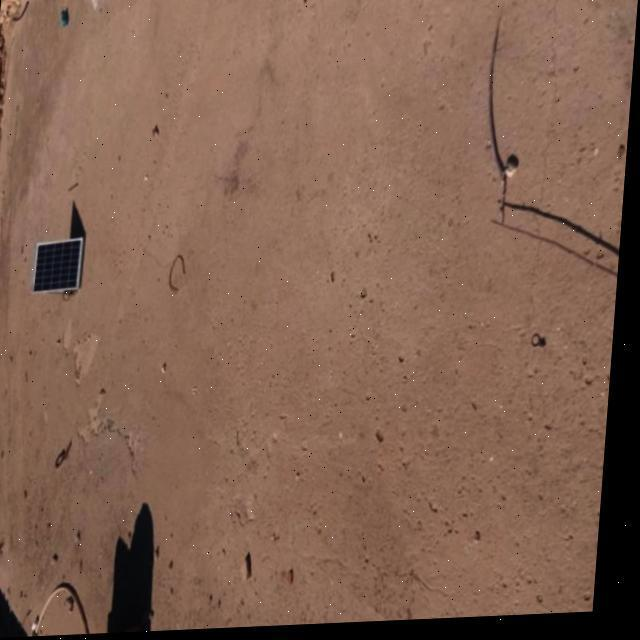Normal Solar Panel: (36, 238, 86, 294)
